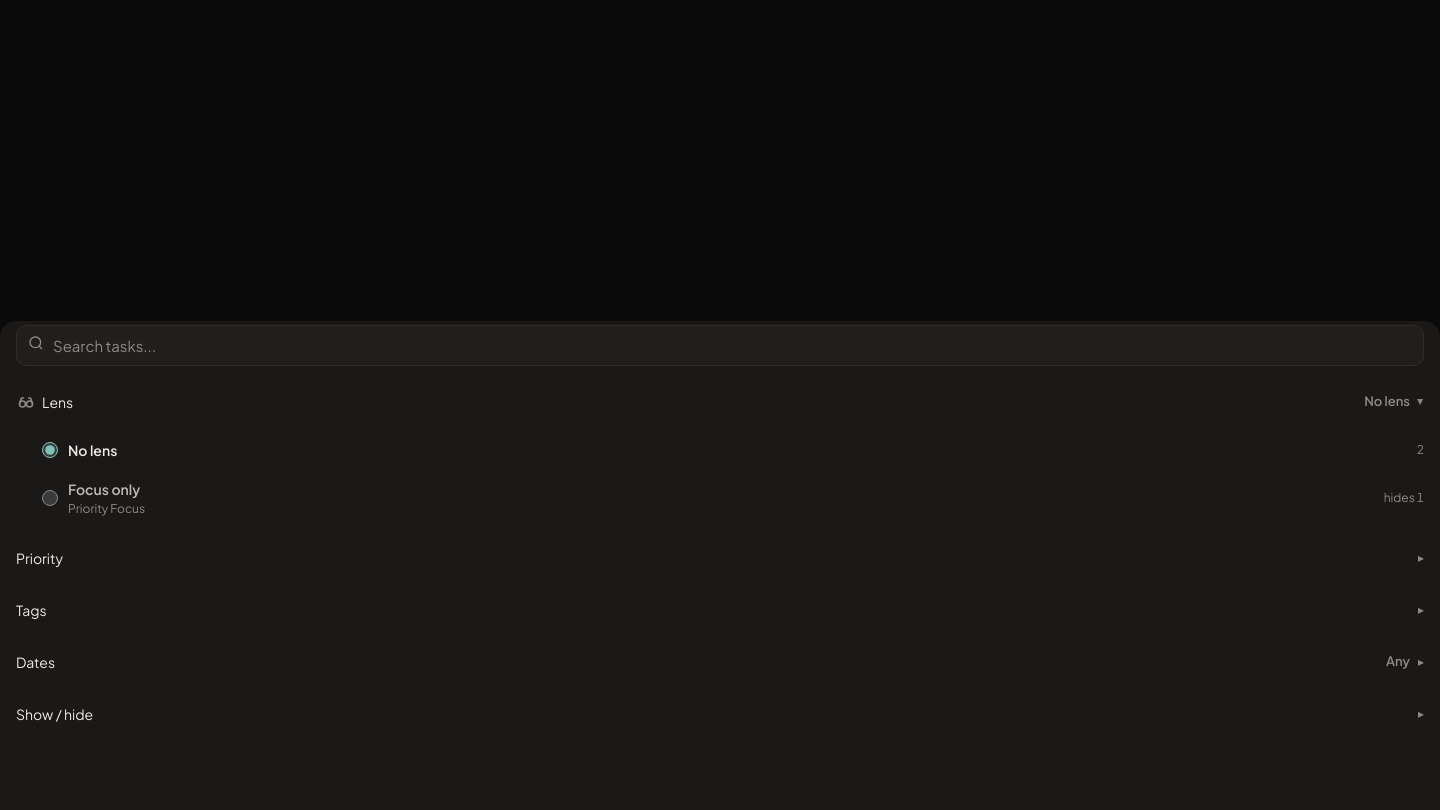
Test: the phone filter sheet’s Lens section › a radio list first: No lens with the open count, each lens with what it hides; a pick is the top bar’s
This screenshot has width=1440, height=810.
Expected: the button "Lift the lens" is not shown
Step 1. Click the radio button labelled "Focus only Priority Focus hides 1" → [50, 498], box x1=42 y1=490 x2=58 y2=506
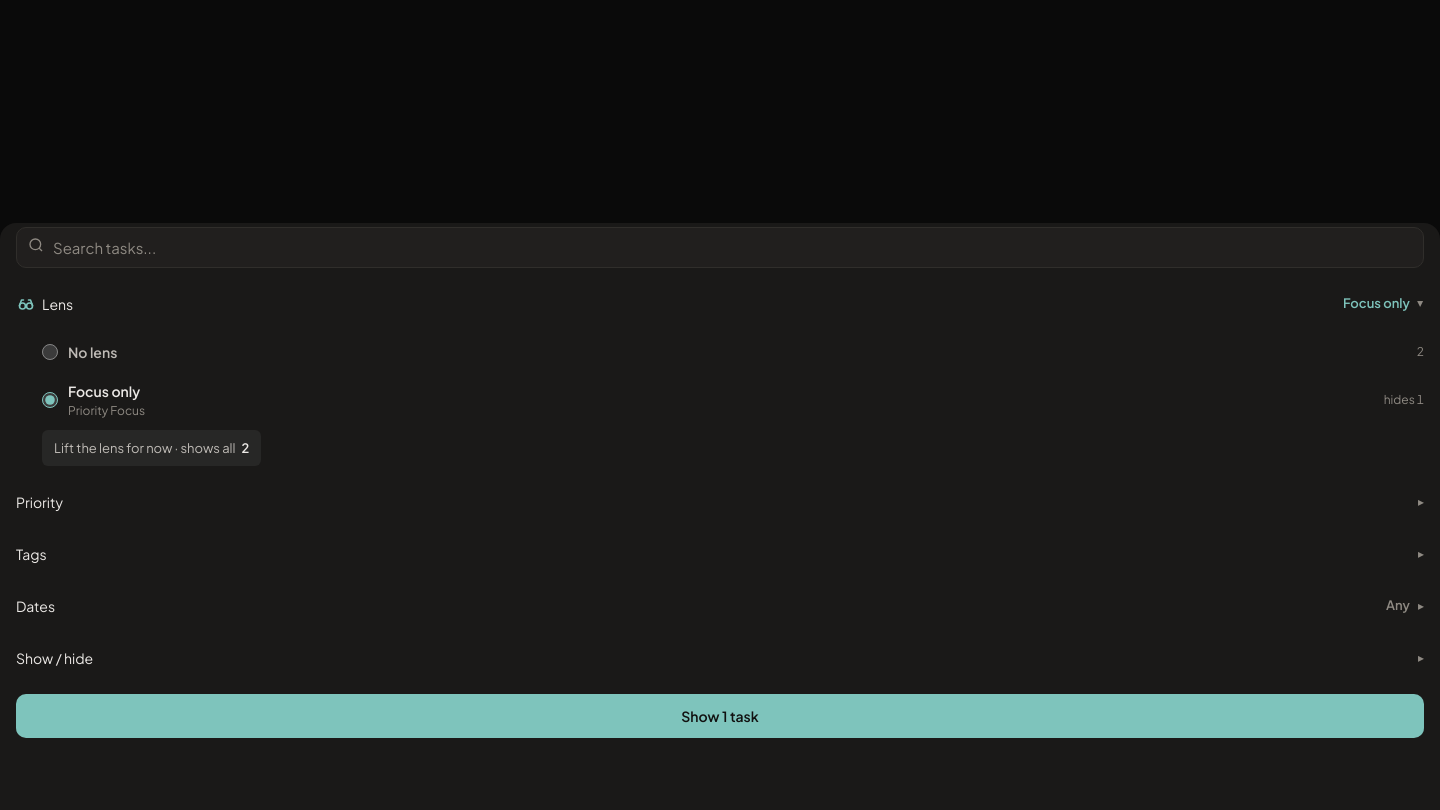
Result: the button "Show 1 task" is shown at x1=16 y1=694 x2=1424 y2=738
